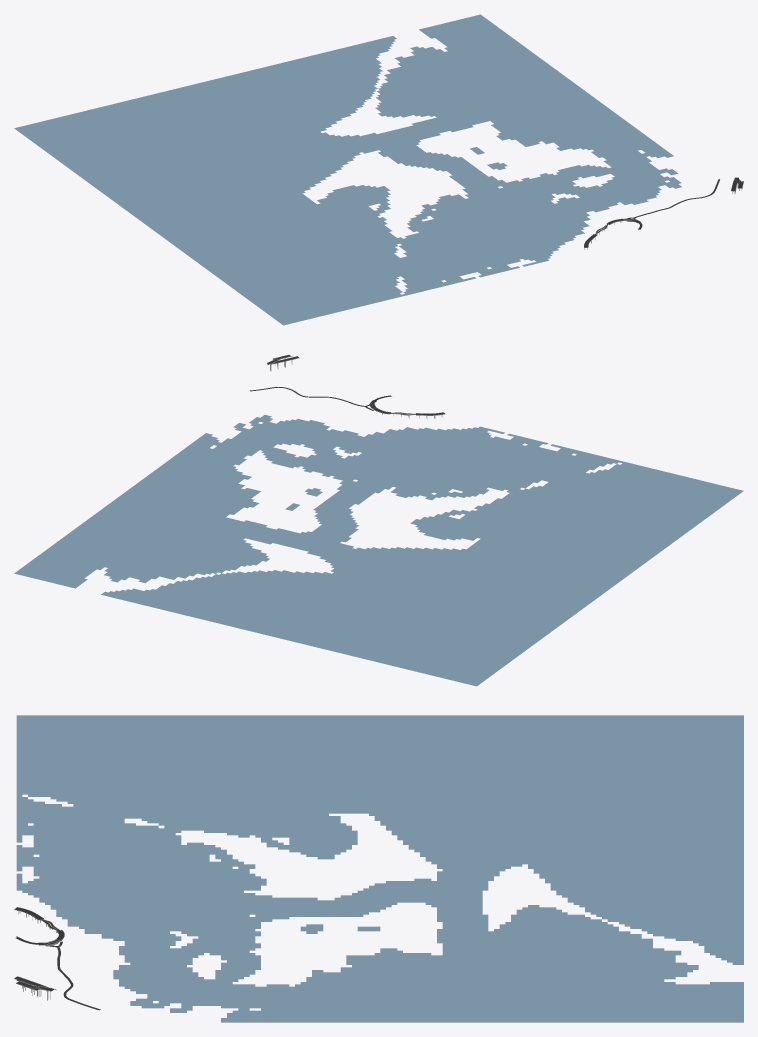
The model's file is chunk_5_1.glb.
3 views of the same model, one above another, from view 1: azimuth 30°, elevation 25°; view 2: azimuth 150°, elevation 25°; view 3: azimuth 270°, elevation 25° (orthographic). The views are drawn at different scales.
Parts seen in each view (by area): view 1: Water_5_1, Roads_5_1; view 2: Water_5_1, Roads_5_1; view 3: Water_5_1, Roads_5_1, RoadSides_5_1.
Boxes of the visible parts, x1,y1,x2,y2 form: Water_5_1: [14, 14, 681, 325]; Roads_5_1: [584, 177, 743, 247]; Water_5_1: [14, 415, 743, 686]; Roads_5_1: [250, 355, 444, 415]; Water_5_1: [16, 715, 743, 1022]; Roads_5_1: [14, 907, 100, 1010]; RoadSides_5_1: [14, 907, 64, 1000].
Bounding box in the file's own units: 2056 × 107 × 2055.
